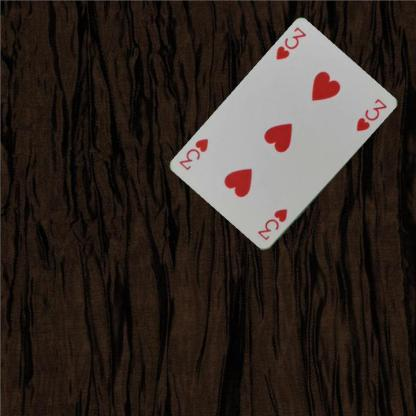3h: (274, 24, 308, 62), (255, 206, 289, 242)
